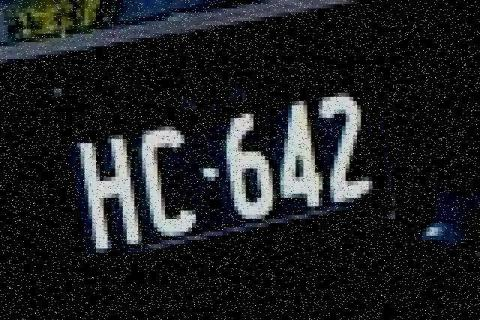LicensePlate: (43, 53, 429, 291)
